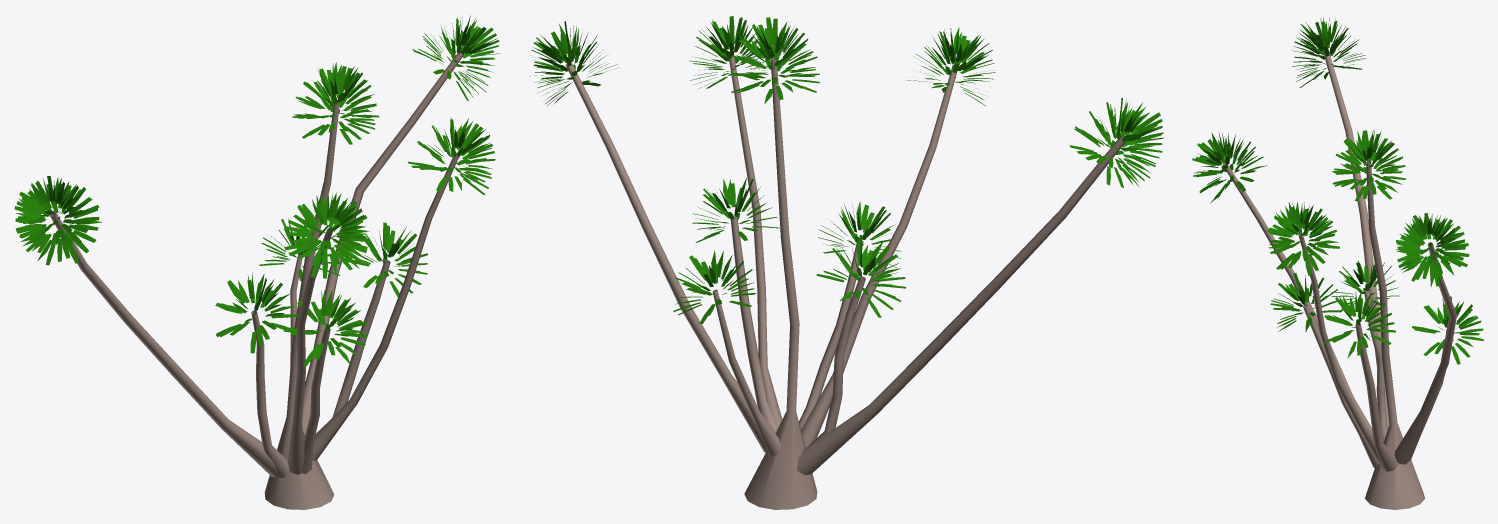
File: YukaBush_03.fbx
3 views of the same model, side by side, from view 1: azimuth 30°, elevation 25°; view 2: azimuth 150°, elevation 25°; view 3: azimuth 270°, elevation 25° (orthographic). The views are drawn at different scales.
Parts seen in each view (by area): view 1: Foliage001; view 2: Foliage001; view 3: Foliage001.
Boxes of the visible parts, box(x1,y1,x2,y2) form: Foliage001: box(14, 15, 499, 509); Foliage001: box(529, 16, 1163, 509); Foliage001: box(1192, 15, 1483, 509).
Bounding box in the file's own units: 136 × 74.12 × 105.
